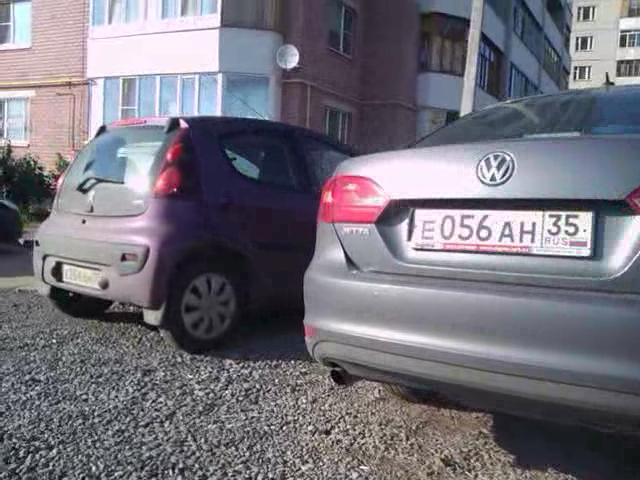car license plate: (407, 203, 599, 263), (52, 257, 112, 295)
